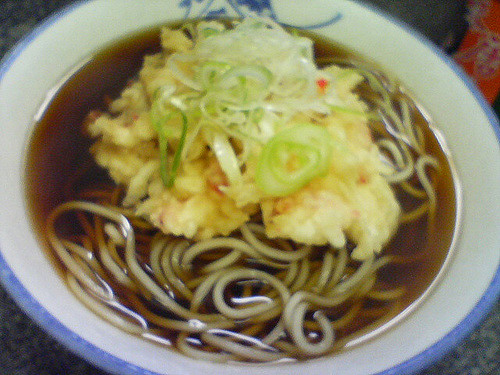plain spaghetti: (76, 207, 313, 354)
